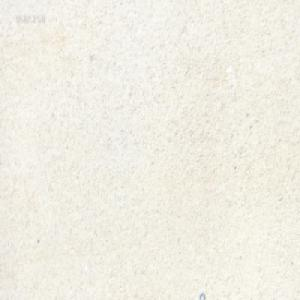Washer: (199, 291, 205, 299)
